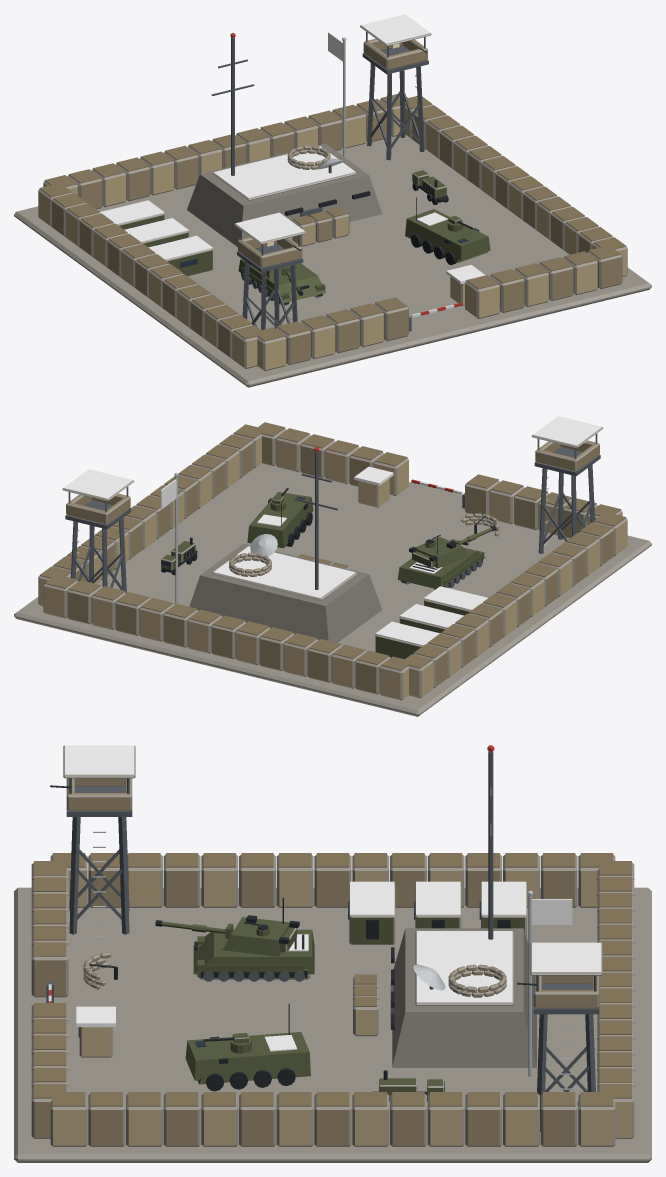
The model's file is defense_post.glb.
3 views of the same model, one above another, from view 1: azimuth 30°, elevation 25°; view 2: azimuth 150°, elevation 25°; view 3: azimuth 270°, elevation 25° (orthographic). The views are drawn at different scales.
Visible parts, largest first — view 1: DefensePost; view 2: DefensePost; view 3: DefensePost.
Boxes of the visible parts, x1,y1,x2,y2 form: DefensePost: [14, 14, 651, 387]; DefensePost: [14, 416, 651, 716]; DefensePost: [14, 745, 651, 1162].
Bounding box in the file's own units: 0.97 × 0.431 × 0.97.
